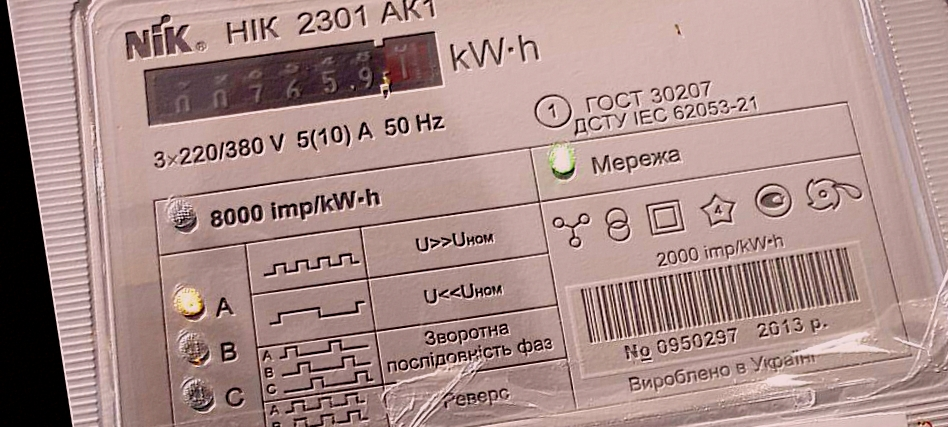0: (172, 90, 194, 118), (210, 85, 232, 112)
1: (395, 50, 414, 83)
5: (317, 66, 343, 96)
6: (282, 75, 304, 101)
7: (245, 80, 269, 108)
9: (355, 62, 377, 92)
screen: (129, 11, 457, 149)
